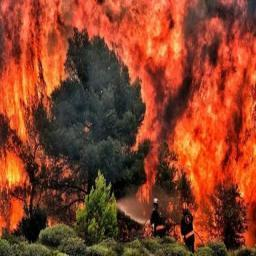Large fire: (0, 0, 255, 253)
